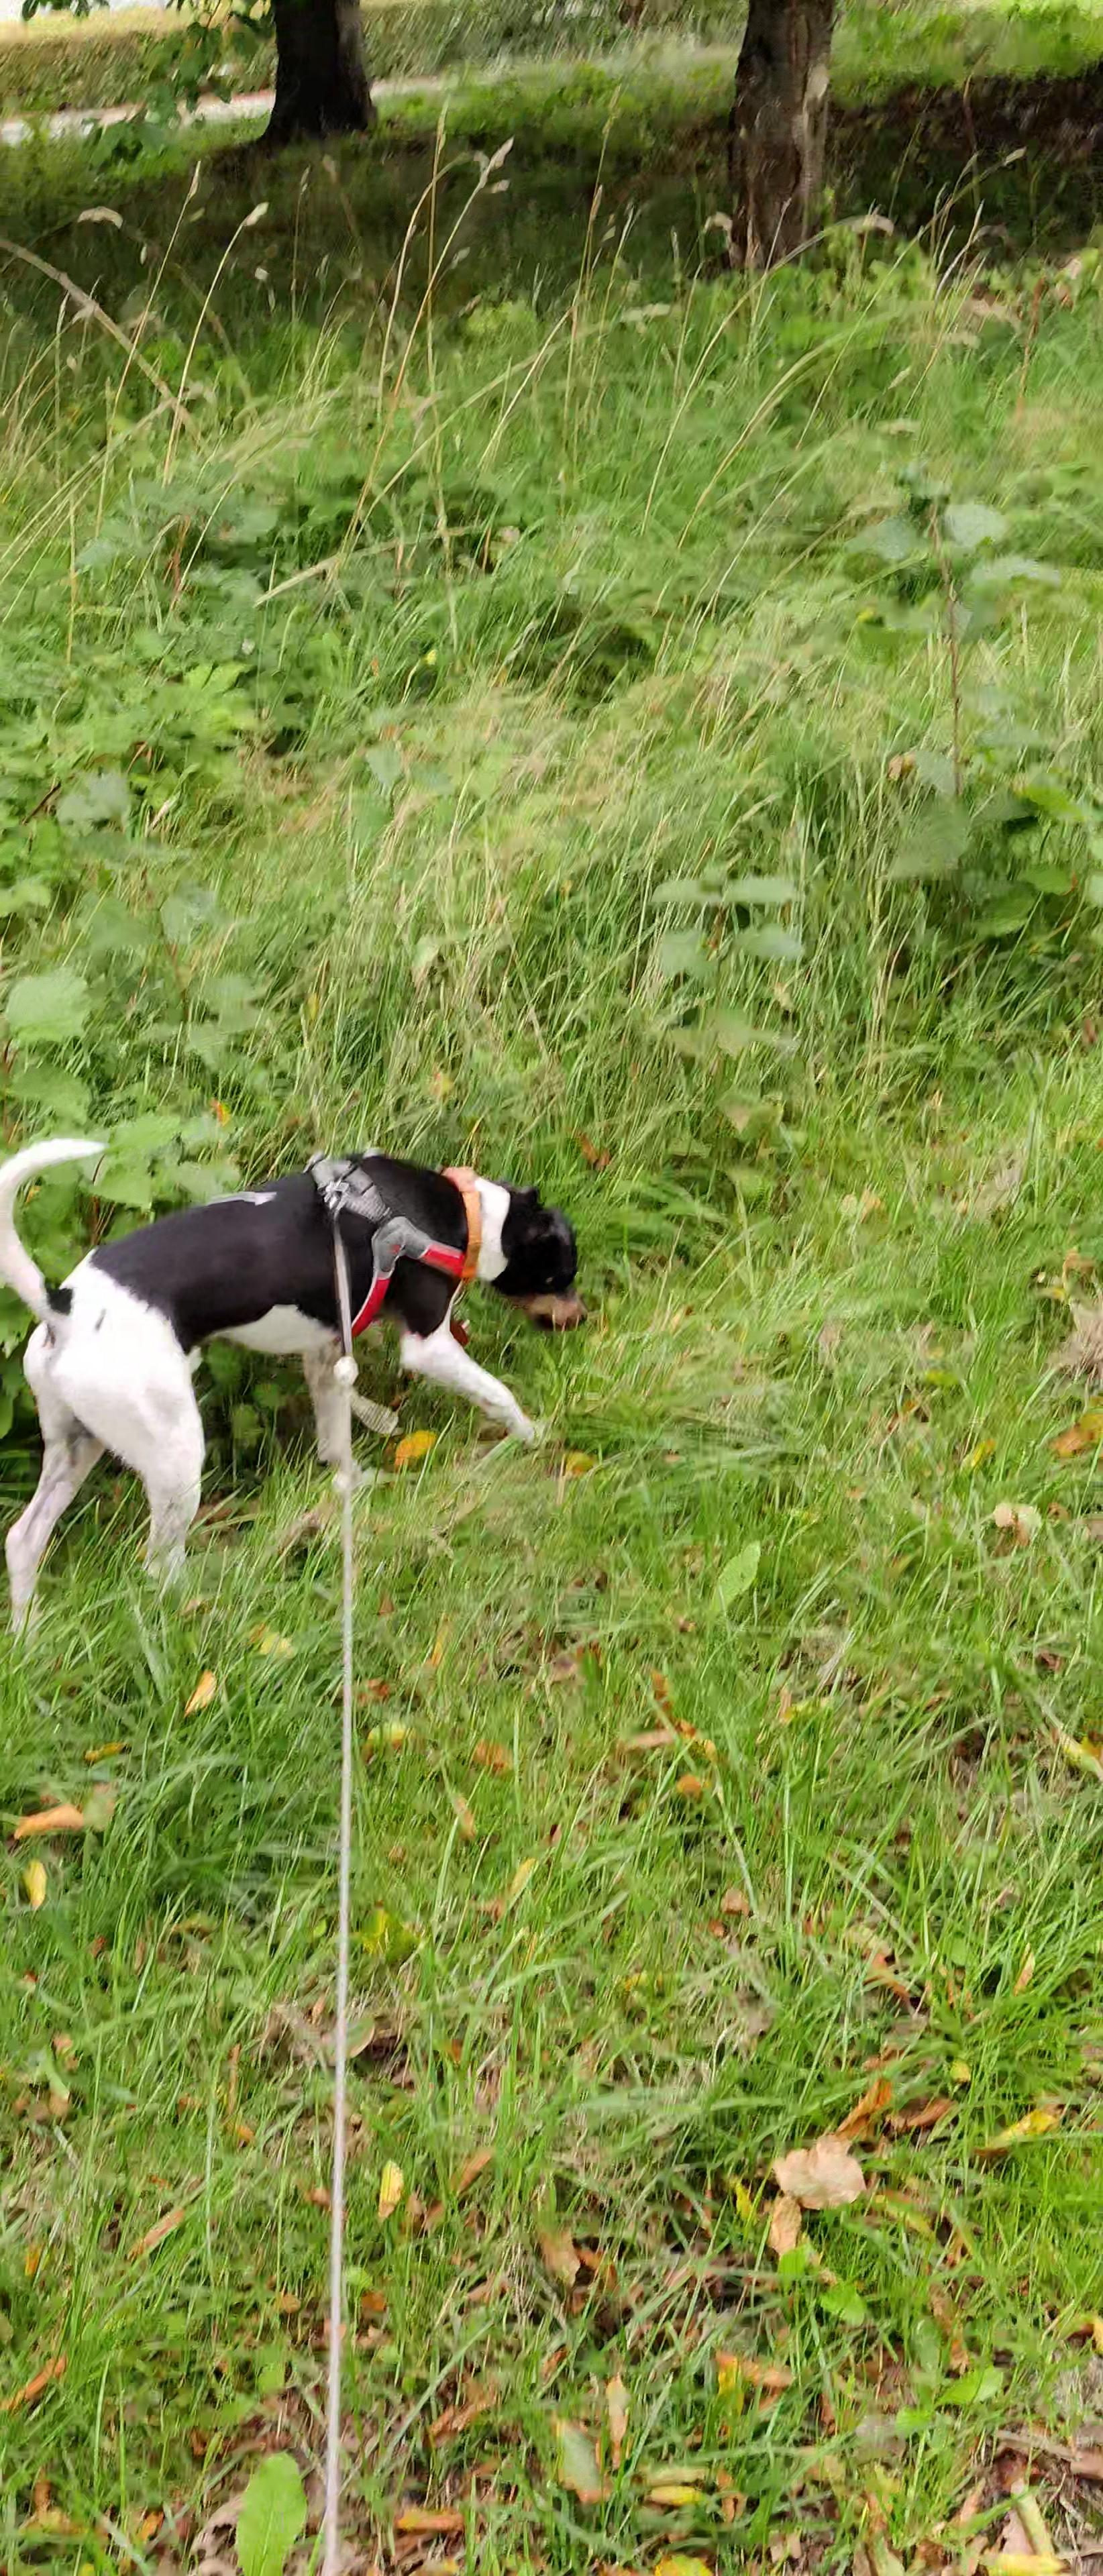Dog: (0, 1132, 592, 1610)
